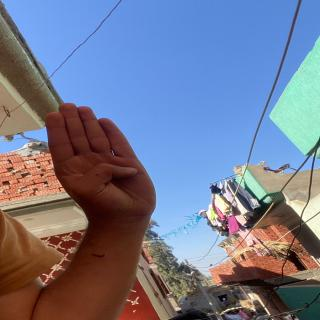KAAF: (29, 96, 172, 222)
